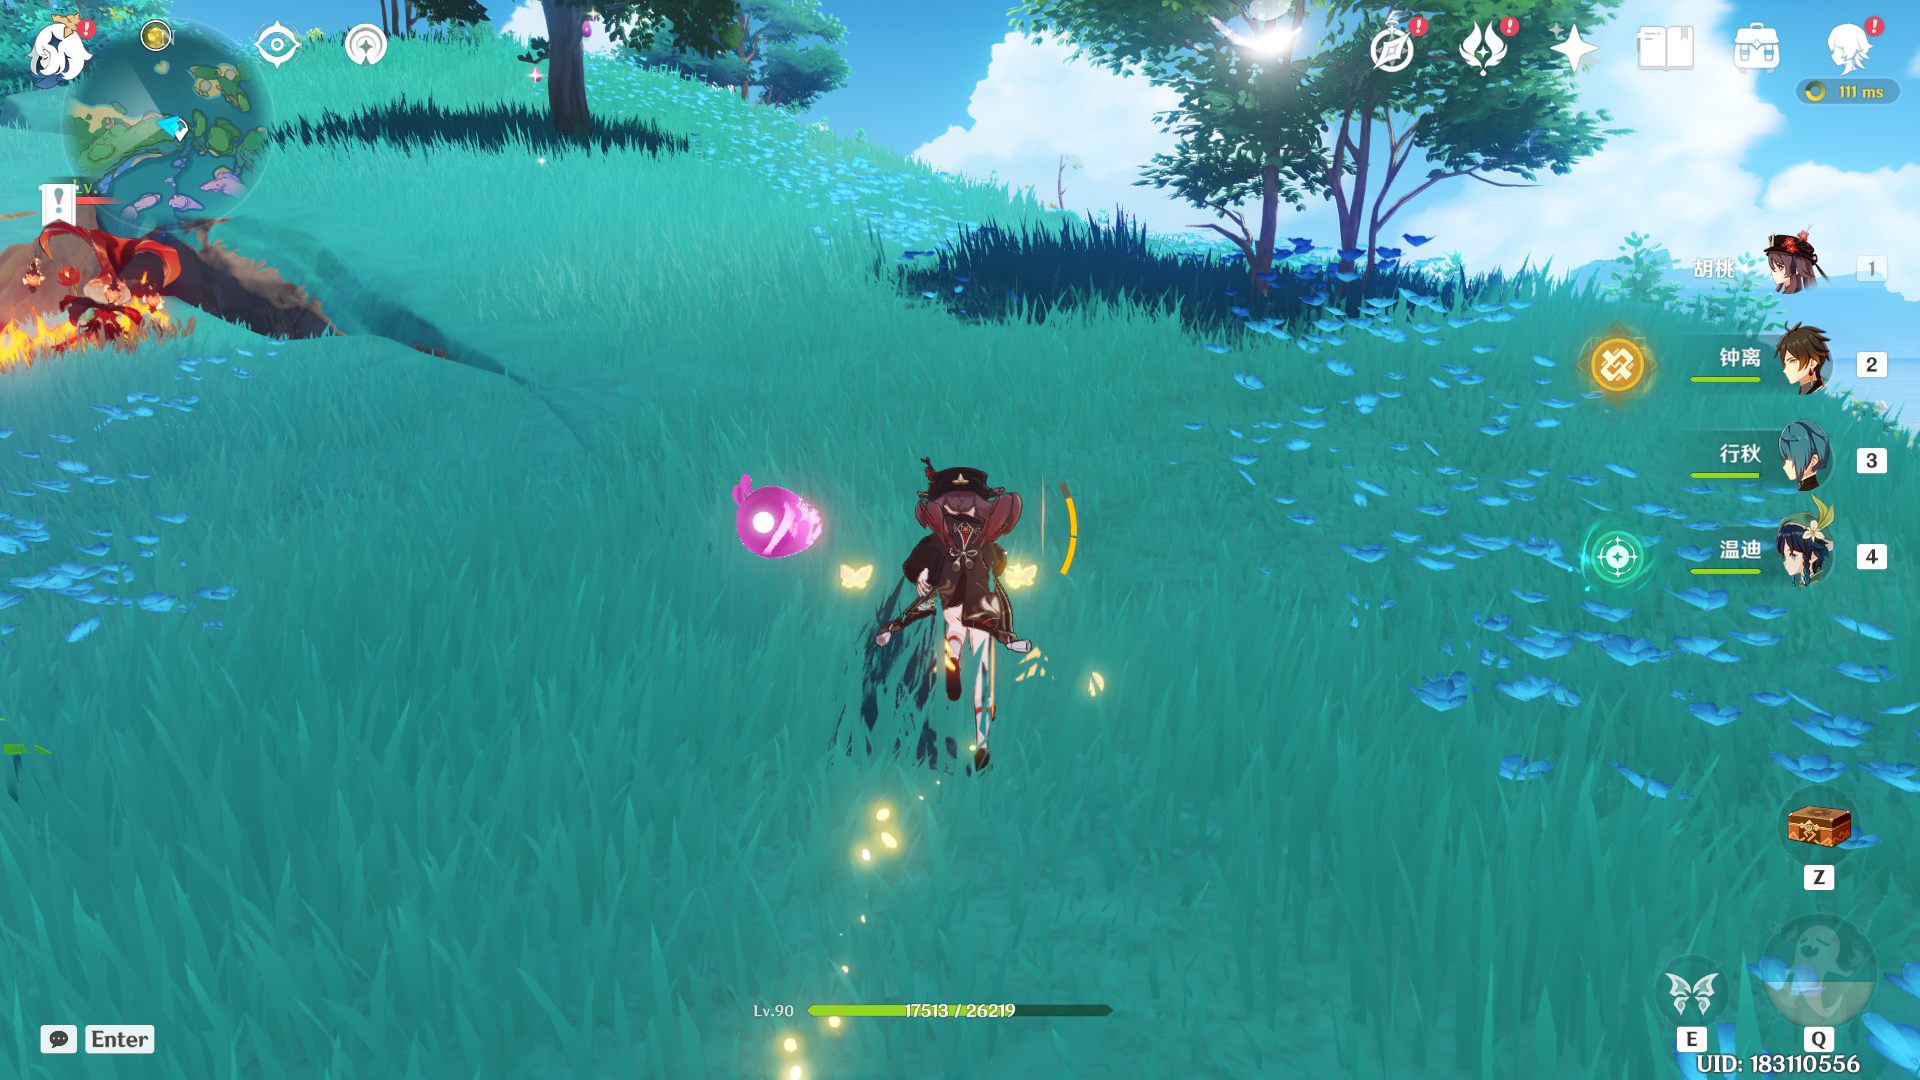character: (812, 410, 1104, 832)
